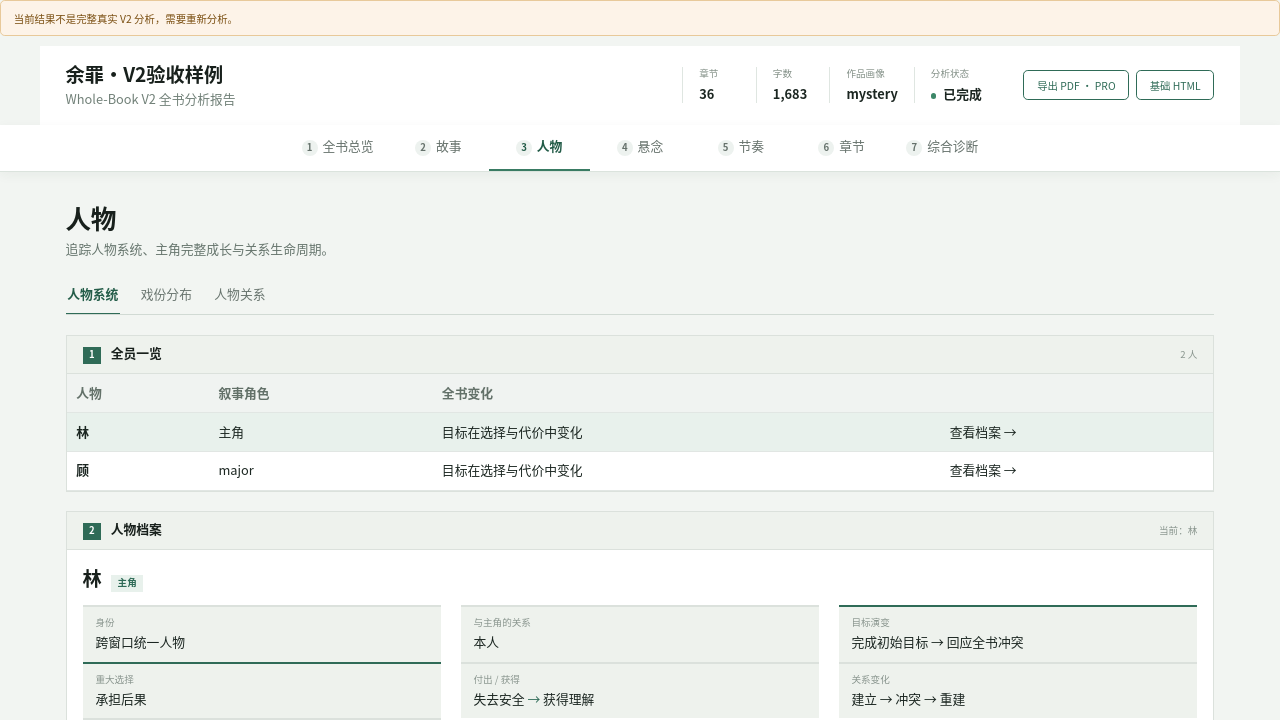
每程的账本 › 四类账都在，计数是全量而列表是展示的那几条
Click the button "戏份分布" at {"x": 166, "y": 294}, box [139,275,194,314]
(page scrolled)
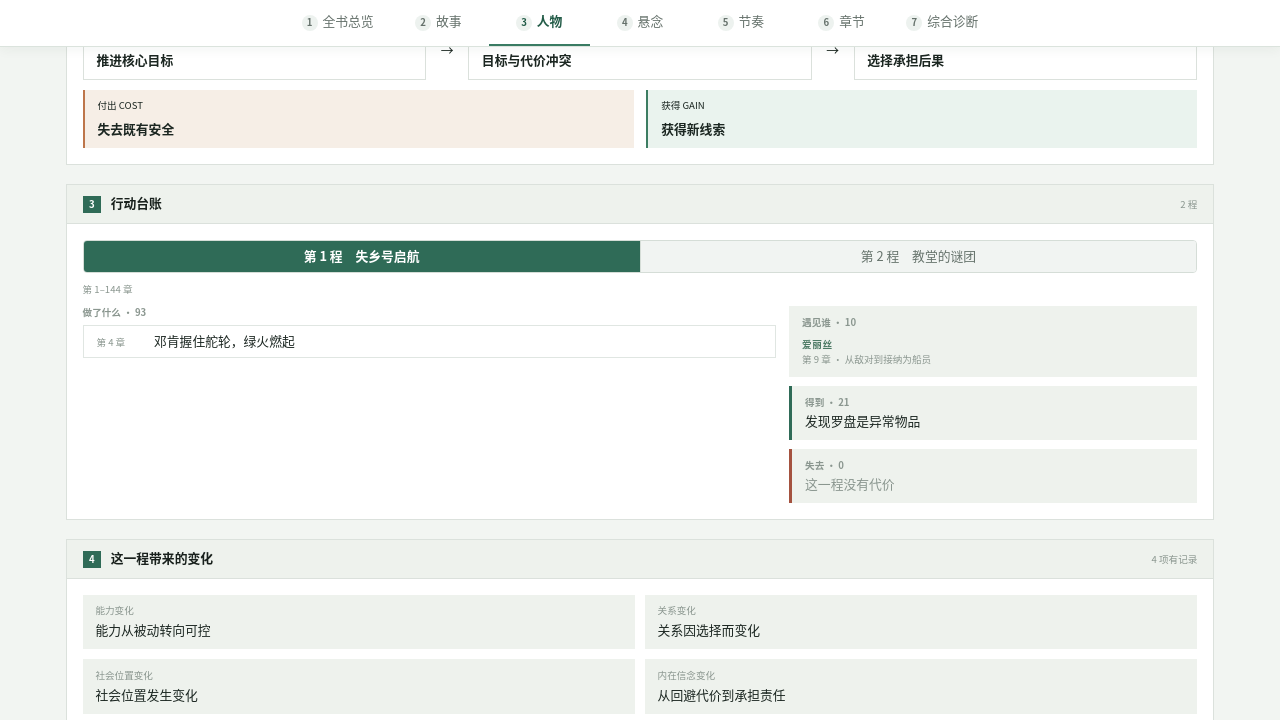
Check: the heading "做了什么 · 93" is shown, box [83,305,146,319]
Check: the heading "遇见谁 · 10" is shown, box [802,315,856,329]
Check: the heading "得到 · 21" is shown, box [805,395,850,409]
